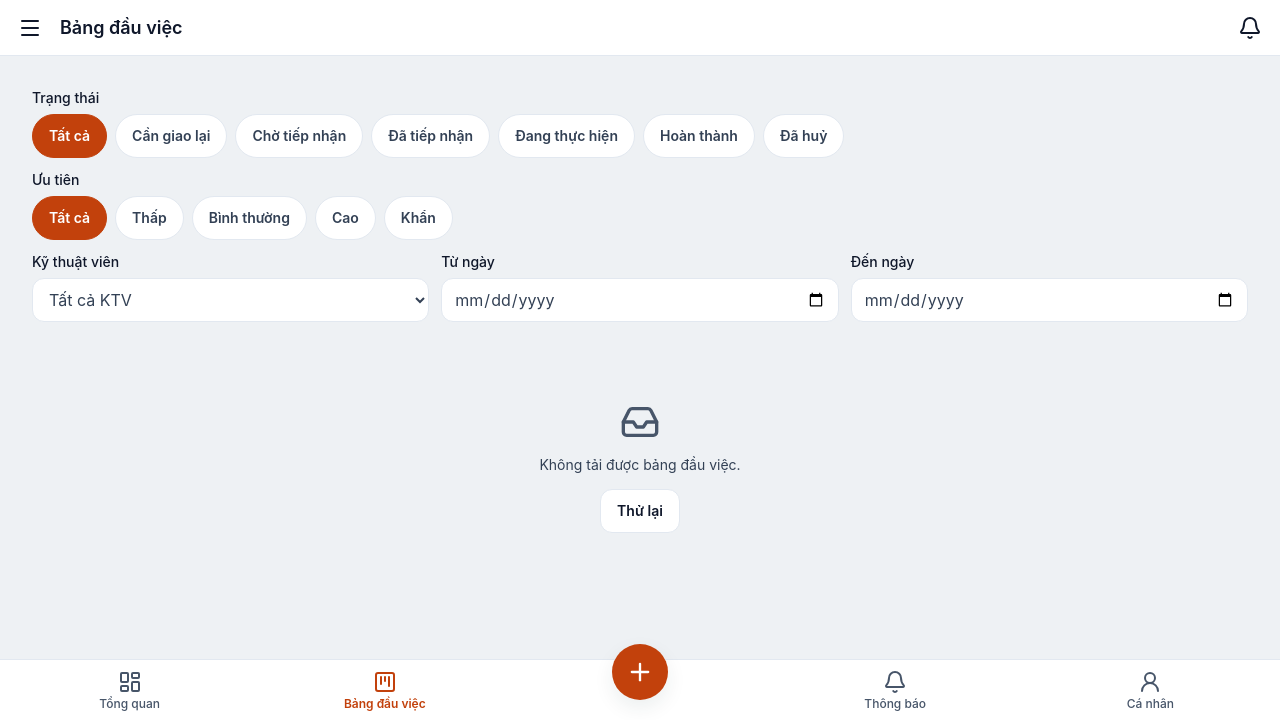
Test case: Bảng đầu việc › AC-DSP-089 lỗi tải mobile: EmptyState + Thử lại gọi lại
Expected: the text "Không tải được bảng đầu việc." is shown, top-left (539, 454), bottom-right (741, 477)
Click the button "Thử lại". click: (640, 511)
box: top-left (600, 489), bottom-right (680, 533)
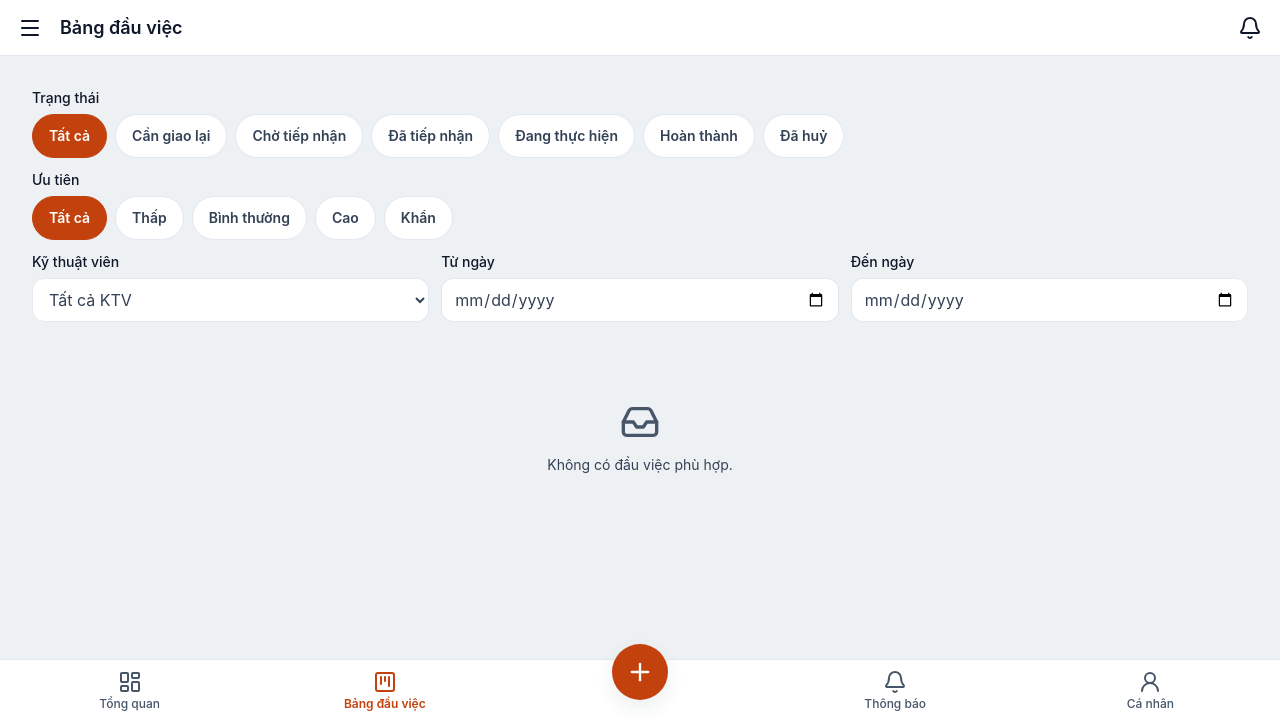
Expected: the text "Không có đầu việc phù hợp." is shown, top-left (547, 454), bottom-right (733, 477)
